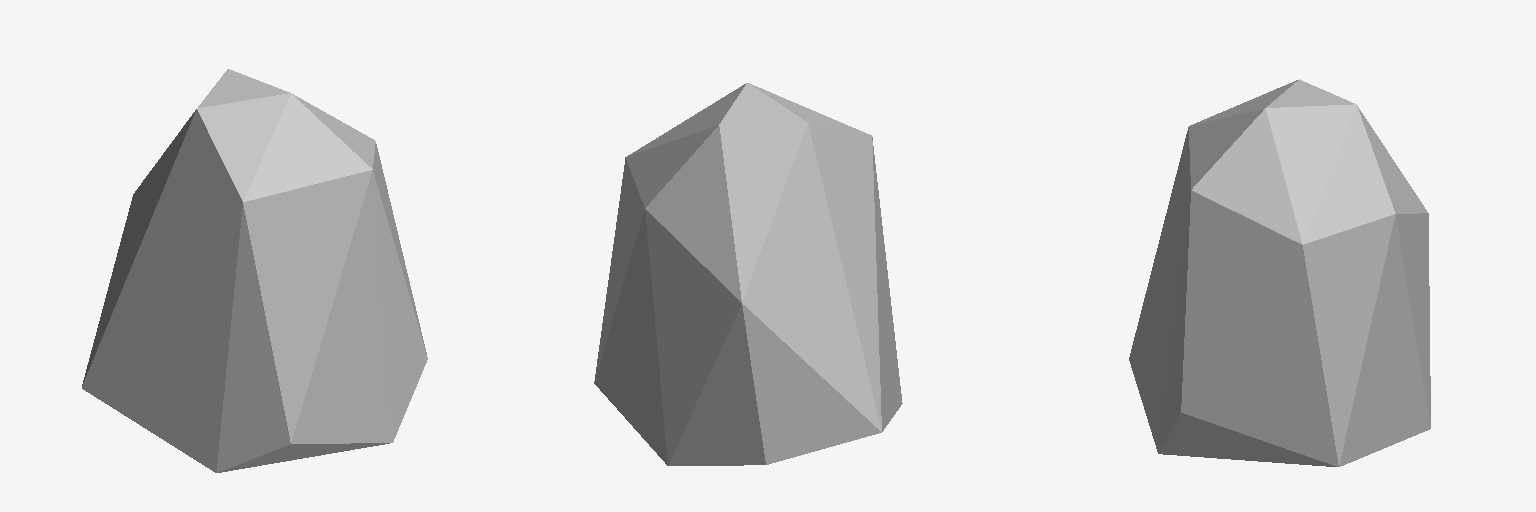
The model's file is big_rock.obj.
The picture shows the model from 3 angles: view 1: azimuth 30°, elevation 25°; view 2: azimuth 150°, elevation 25°; view 3: azimuth 270°, elevation 25°; orthographic projection.
Visible parts, largest first — view 1: Rock; view 2: Rock; view 3: Rock.
Boxes of the visible parts, <box> form: Rock: <box>82,69,427,472</box>; Rock: <box>594,83,902,465</box>; Rock: <box>1129,79,1430,466</box>.
Size of the model in its own units: 0.4203 by 0.4492 by 0.381.